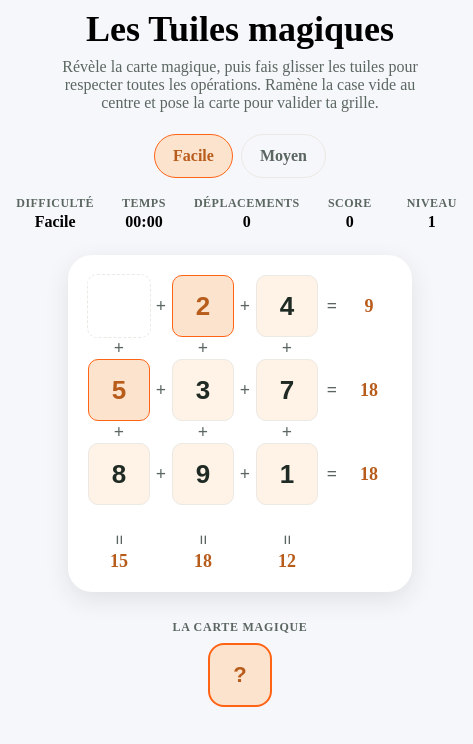
Test: Les Tuiles magiques › accepte une disposition valide et ajoute le score, sans révéler la solution avant la pose
// ramène la case vide au centre par deux déplacements légaux successifs
Click the button named "Ligne 1, colonne 2, valeur 2, déplaçable vers la case vide.".
click(203, 306)  # box [172,275,234,337]
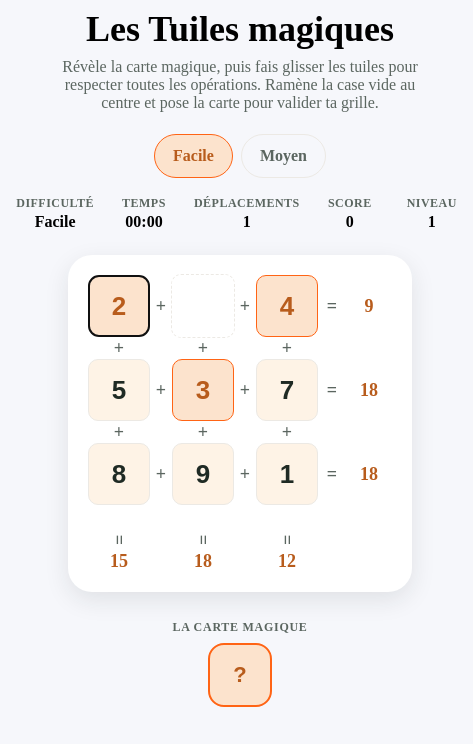
Click the button named "Ligne 2, colonne 2, valeur 3, déplaçable vers la case vide.".
click(203, 390)  # box [172,359,234,421]
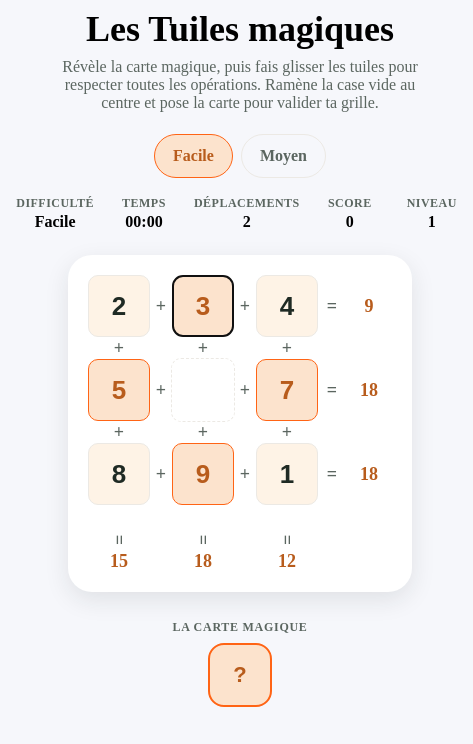
Click the button named "Carte magique, valeur cachée. Appuie pour la révéler.".
click(240, 675)  # box [208,643,272,707]
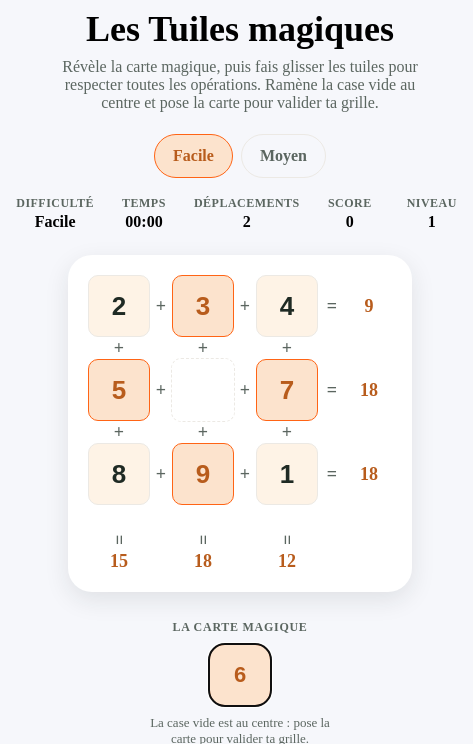
Click the button named "Carte magique révélée".
click(240, 675)  # box [208,643,272,707]
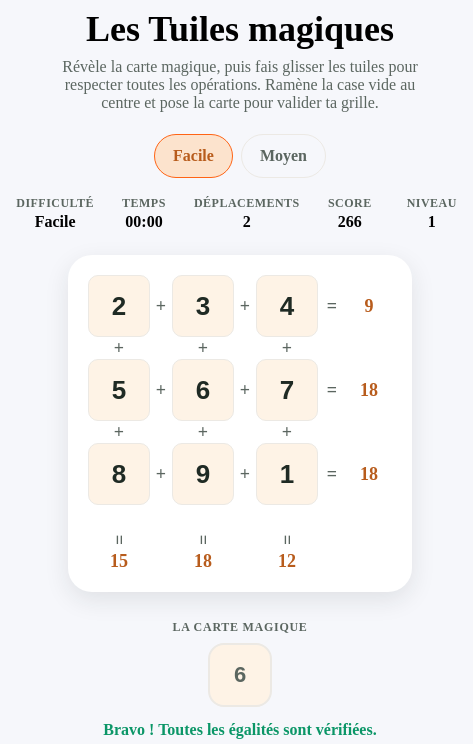
Expected: the element showing "Score 266" is shown, [328,196,372,230]
Now the text "Bravo ! Toutes les égalités sont vérifiées." is shown, box [103,721,377,743]
